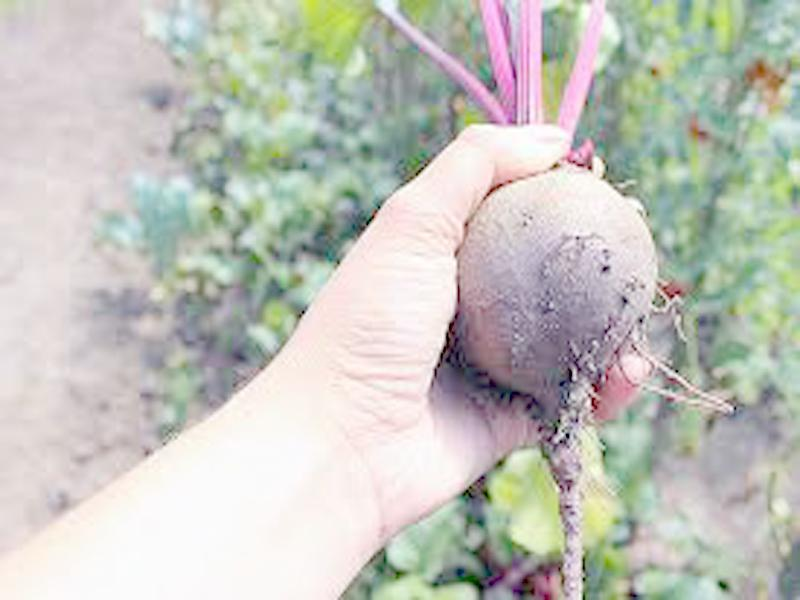Beet: (372, 3, 736, 600)
